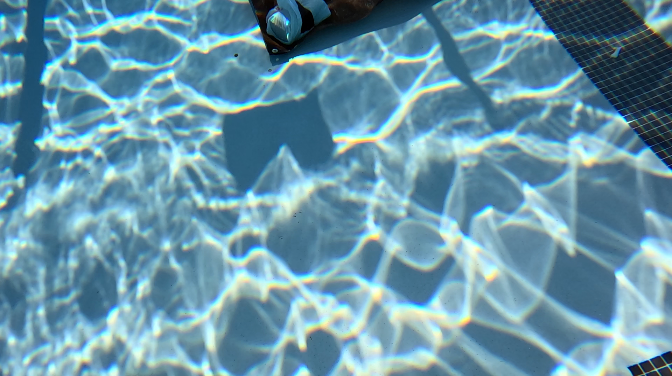sandbag: (250, 0, 383, 54)
